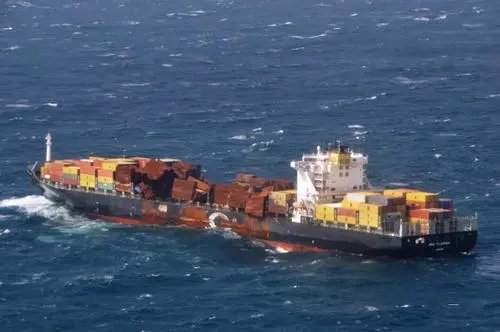Cargoship: (27, 132, 480, 254)
